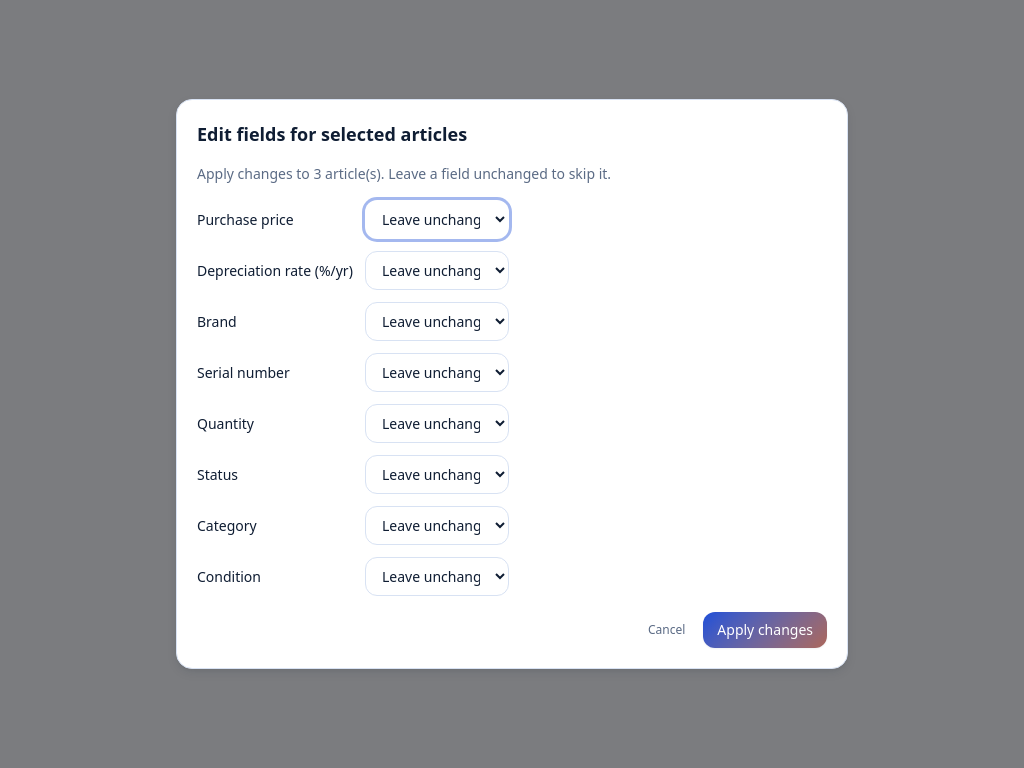
Test: <BulkEditDialog /> › errors when no field is changed (all Skip)
Click the button "Apply changes" at (765, 630), box [703, 612, 827, 648]
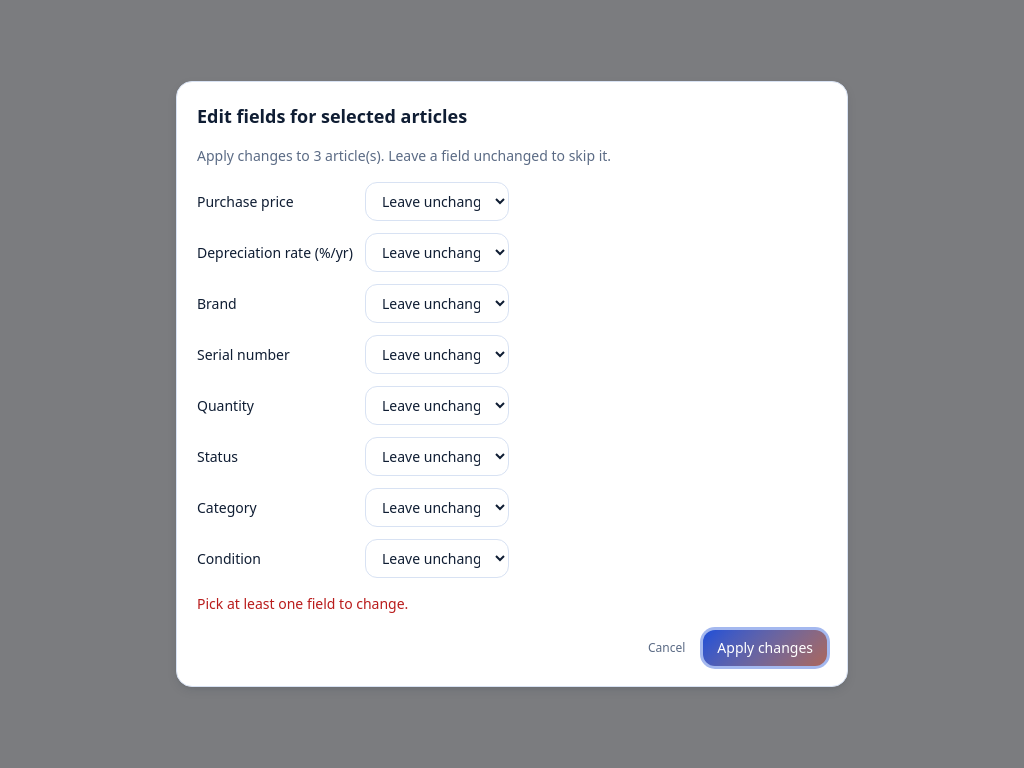
Check: the message "Pick at least one field to change." is shown, box [197, 594, 408, 613]
